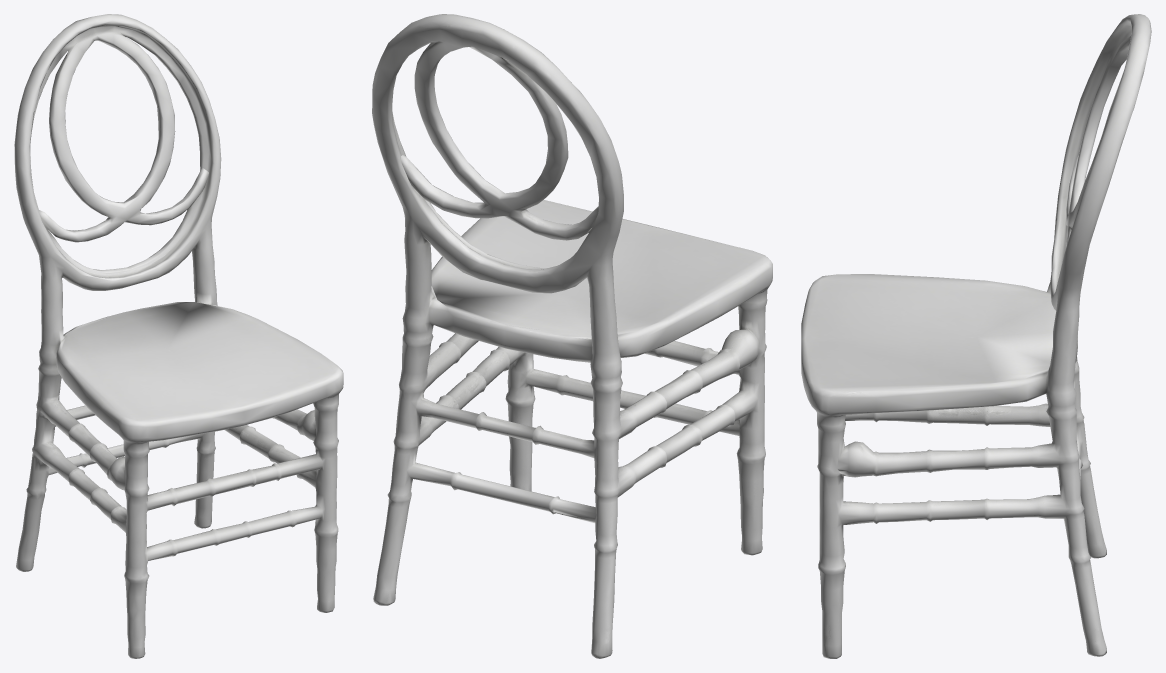
The model's file is Chair_Phoenix_Resin__0320031606_texture.glb.
The picture shows the model from 3 angles, left to right: view 1: azimuth 30°, elevation 25°; view 2: azimuth 150°, elevation 25°; view 3: azimuth 270°, elevation 25°; orthographic projection. The views are drawn at different scales.
Visible parts, largest first — view 1: Mesh_0.005; view 2: Mesh_0.005; view 3: Mesh_0.005.
Boxes of the visible parts, bbox=[...] form: Mesh_0.005: bbox=[14, 14, 343, 658]; Mesh_0.005: bbox=[372, 14, 772, 658]; Mesh_0.005: bbox=[801, 14, 1151, 658].
Size of the model in its own units: 0.4074 by 0.9144 by 0.4994.
Materials: 1 (1 with a texture image).
